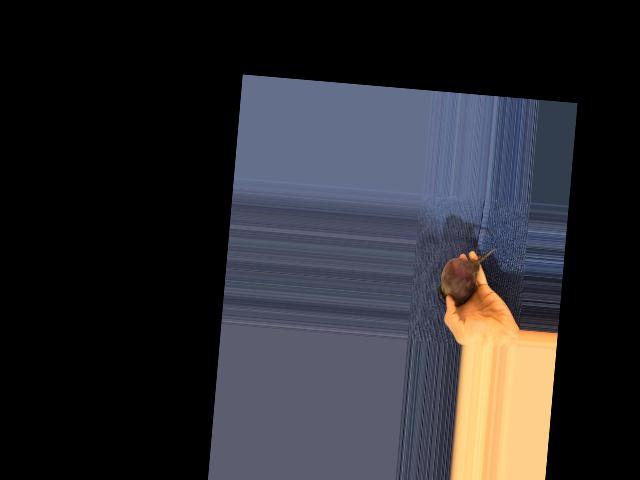beet: (436, 243, 496, 308)
